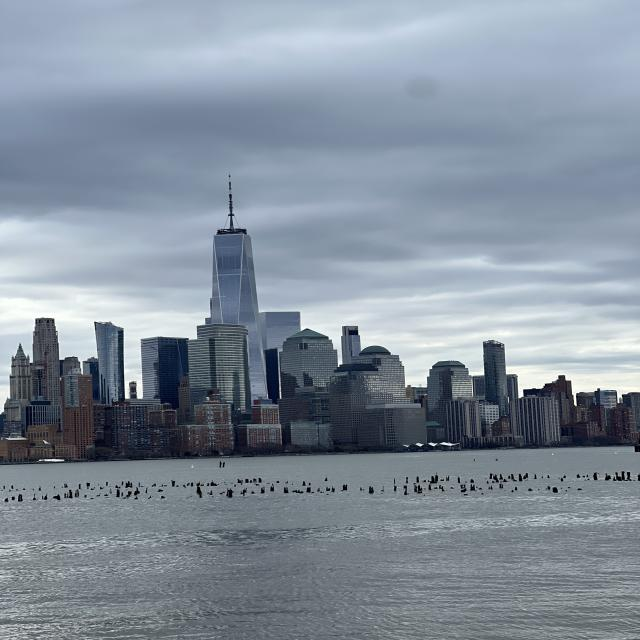WTC: (208, 171, 259, 323)
